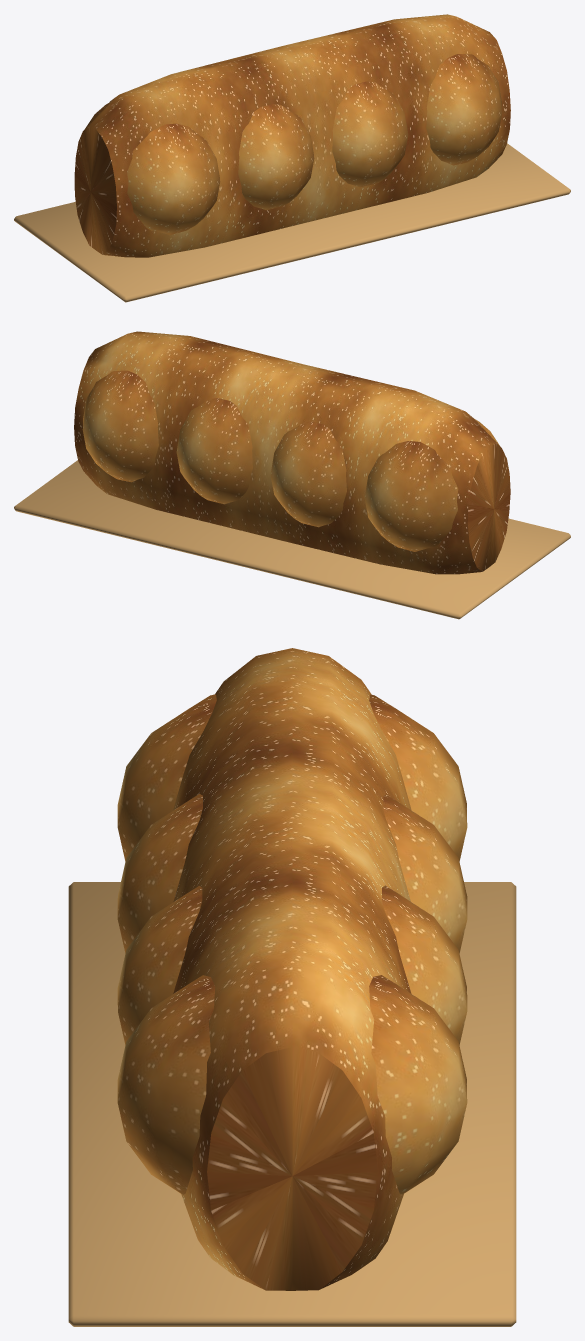
The model's file is bakery_brioche_loaf.glb.
3 views of the same model, one above another, from view 1: azimuth 30°, elevation 25°; view 2: azimuth 150°, elevation 25°; view 3: azimuth 270°, elevation 25° (orthographic). The views are drawn at different scales.
Visible parts, largest first — view 1: bakery_brioche_loaf; view 2: bakery_brioche_loaf; view 3: bakery_brioche_loaf.
Part boxes in pixels (box(x1,y1,x2,y2)): bakery_brioche_loaf: box(14, 14, 570, 302); bakery_brioche_loaf: box(14, 331, 570, 619); bakery_brioche_loaf: box(68, 648, 516, 1326).
Size of the model in its own units: 0.3 by 0.1204 by 0.13.
2 materials, 1 textured.
